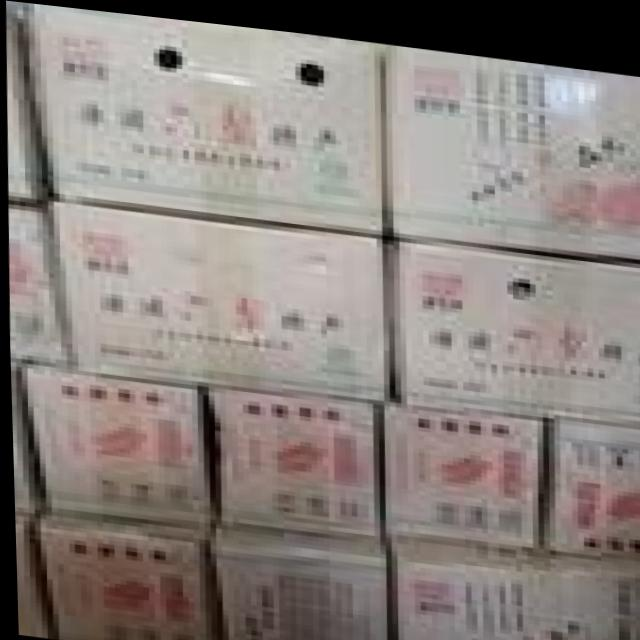box: (21, 3, 385, 223), (52, 200, 388, 395), (385, 39, 640, 245), (387, 227, 640, 411), (14, 367, 207, 523), (206, 379, 381, 532), (23, 507, 212, 640), (380, 397, 541, 537), (206, 520, 387, 640), (384, 525, 559, 640), (543, 406, 640, 538), (8, 201, 70, 367), (544, 534, 640, 640), (6, 3, 49, 202), (9, 367, 43, 513), (12, 511, 43, 633)
